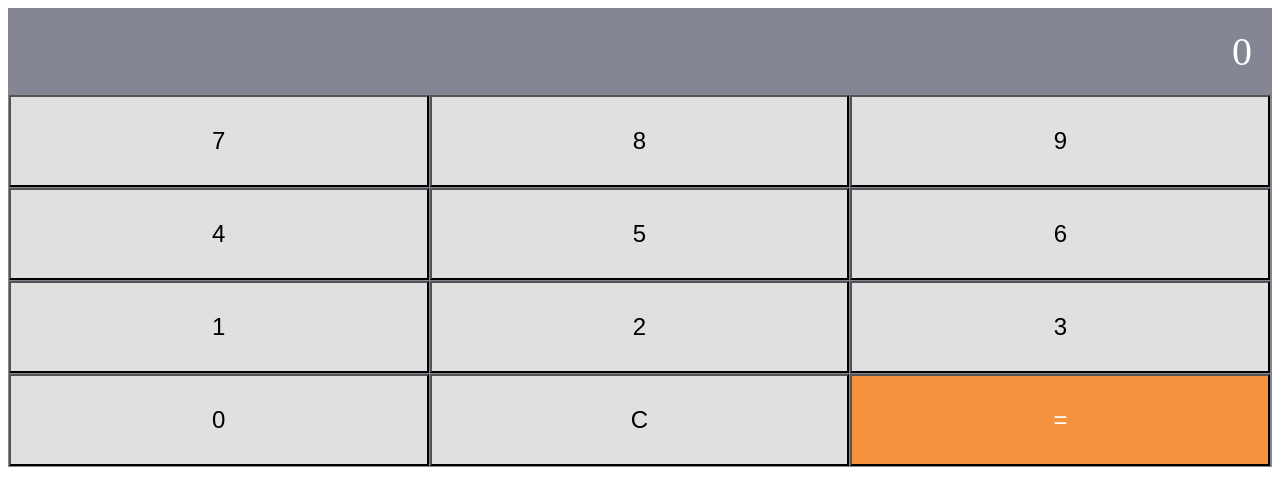
Test case: should reset result to 0 when press "c" button
The image size is (1280, 484).
What coordinates should you click on to do the following:
click the button "1"
I would click on:
 (219, 327)
Its box is [9, 281, 428, 373].
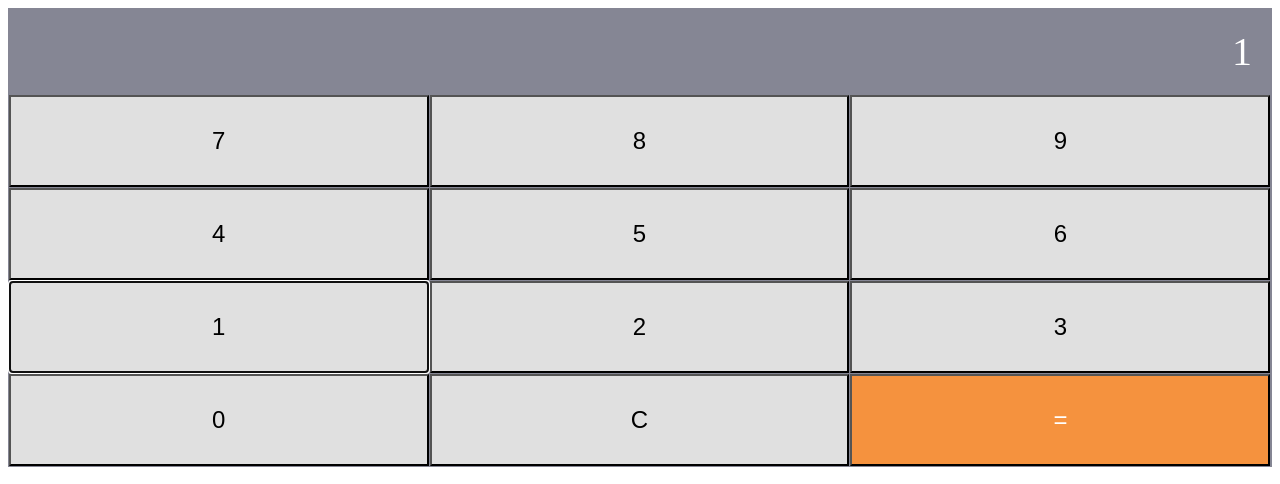
What coordinates should you click on to do the following:
click the button "5"
I would click on:
 (639, 234)
Its box is [430, 188, 849, 280].
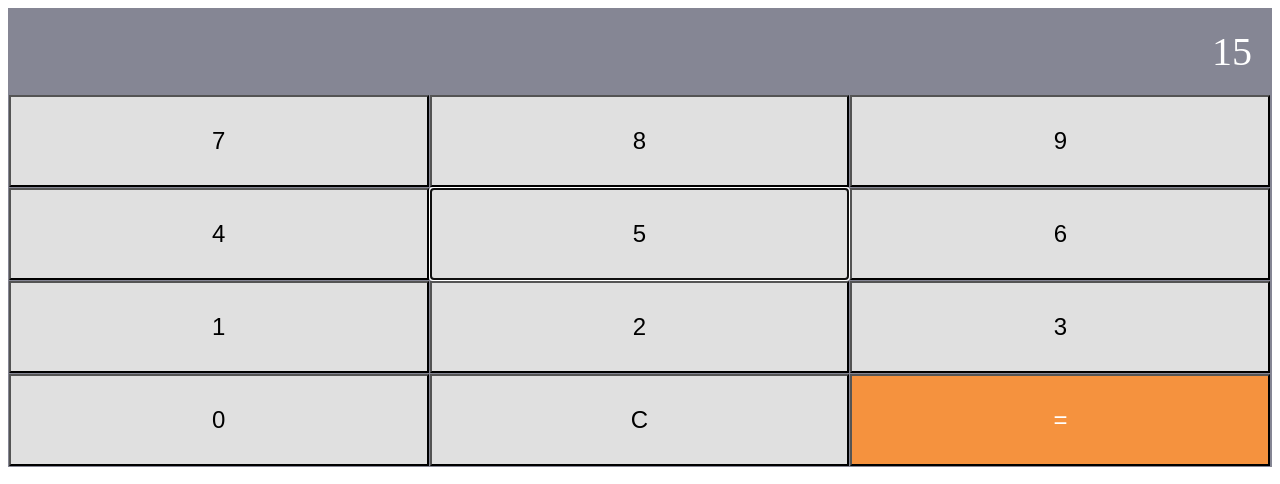
What coordinates should you click on to do the following:
click the button "C"
I would click on:
 (639, 420)
Its box is [430, 374, 849, 466].
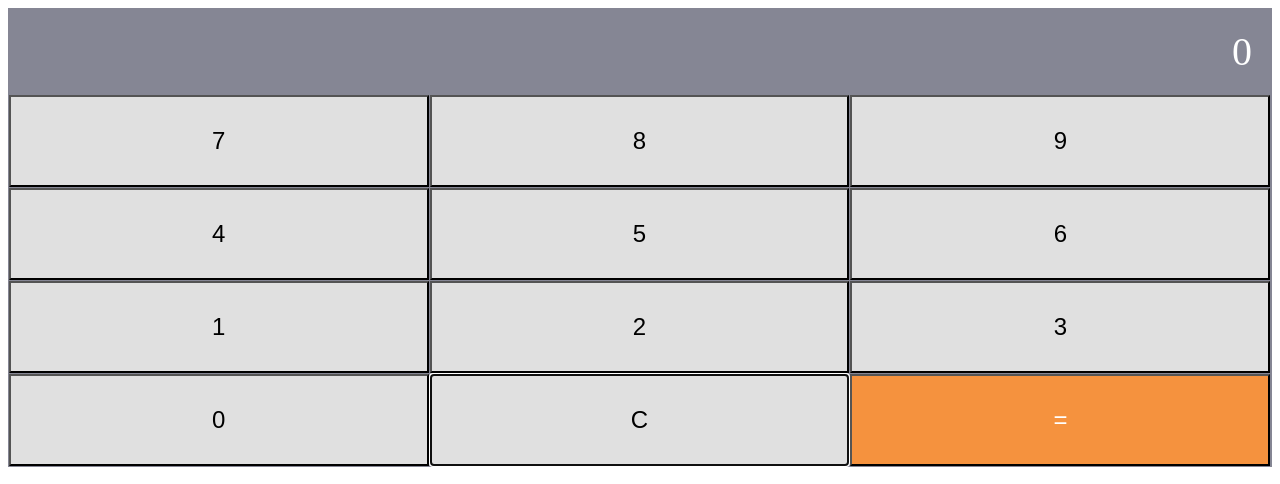
Result: the text with test id "result" reads "0" at [1232, 29, 1252, 74]
